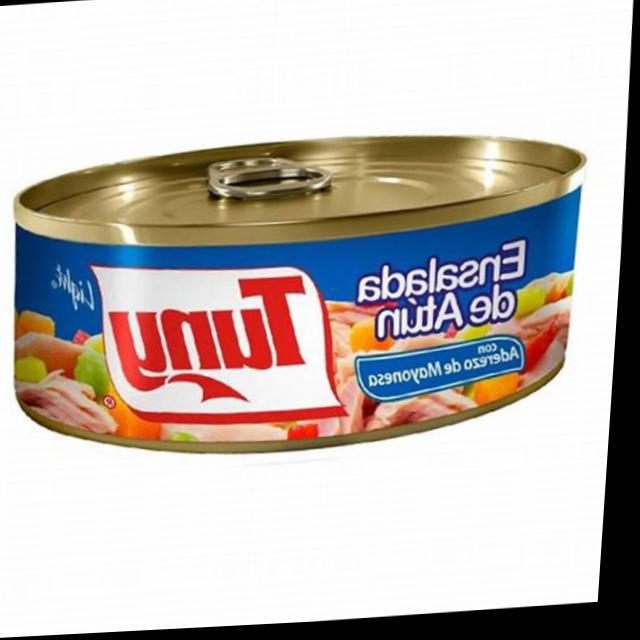Lata: (0, 109, 608, 484)
